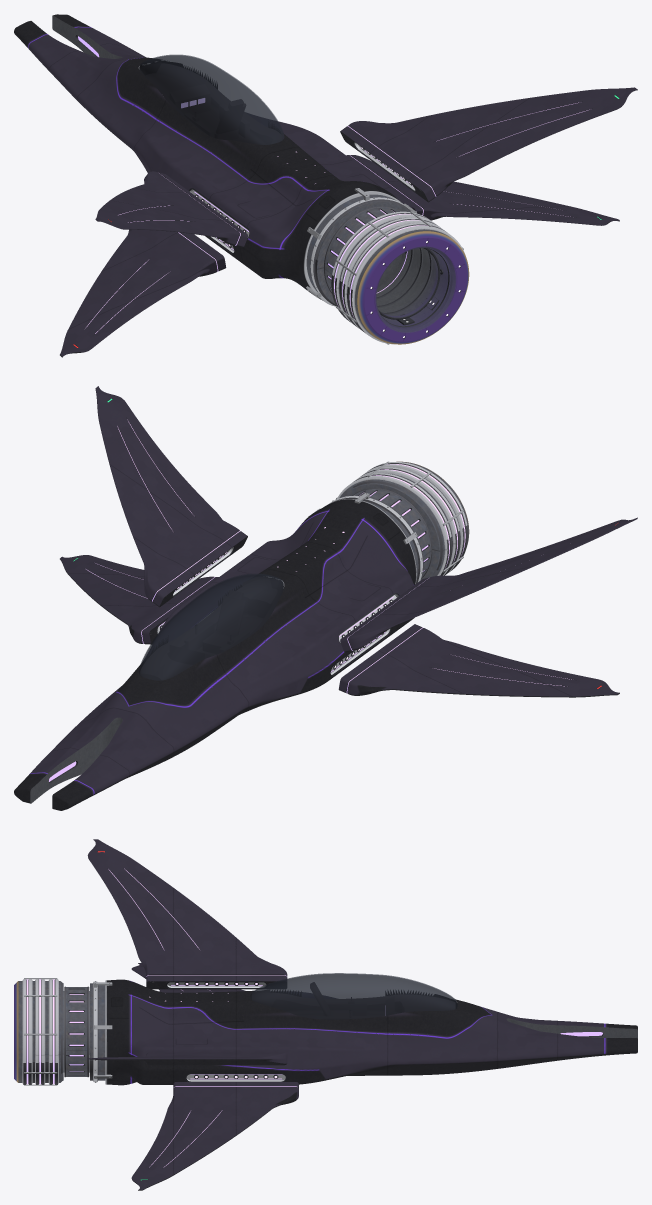
Rendered from umbra_web_2k.glb.
3 views of the same model, one above another, from view 1: azimuth 30°, elevation 25°; view 2: azimuth 150°, elevation 25°; view 3: azimuth 270°, elevation 25° (orthographic). The views are drawn at different scales.
Visible parts, largest first — view 1: Hull, EngineModule, Blade_UR, Blade_DL, Blade_UL, Blade_DR, Cockpit, RadiatorDrum, BoreRibs, Gimbal; view 2: Hull, Blade_UR, Blade_DL, EngineModule, Blade_UL, Blade_DR, Cockpit, RadiatorDrum; view 3: Hull, Blade_UL, Blade_DR, EngineModule, RadiatorDrum, Blade_UR, Cockpit.
Boxes of the visible parts, box(x1,y1,x2,y2) form: Hull: box(14, 14, 412, 306); EngineModule: box(306, 194, 469, 344); Blade_UR: box(340, 87, 637, 202); Blade_DL: box(60, 229, 226, 357); Blade_UL: box(95, 171, 247, 247); Blade_DR: box(346, 155, 619, 225); Cockpit: box(169, 84, 249, 139); RadiatorDrum: box(324, 206, 400, 293); BoreRibs: box(376, 248, 450, 328); Gimbal: box(378, 248, 440, 319); Hull: box(14, 499, 416, 810); Blade_UR: box(95, 386, 247, 607); Blade_DL: box(338, 624, 619, 697); EngineModule: box(329, 461, 469, 583); Blade_UL: box(340, 517, 637, 652); Blade_DR: box(60, 555, 218, 644); Cockpit: box(169, 590, 249, 664); RadiatorDrum: box(352, 488, 432, 578); Hull: box(105, 973, 637, 1085); Blade_UL: box(87, 839, 287, 989); Blade_DR: box(131, 1082, 298, 1190); EngineModule: box(14, 979, 105, 1084); RadiatorDrum: box(64, 986, 89, 1077); Blade_UR: box(88, 1052, 287, 1065); Cockpit: box(310, 982, 394, 1019).
Bounding box in the file's own units: 10.26 × 2.78 × 11.94.
Materials: 14 (1 with a texture image).
